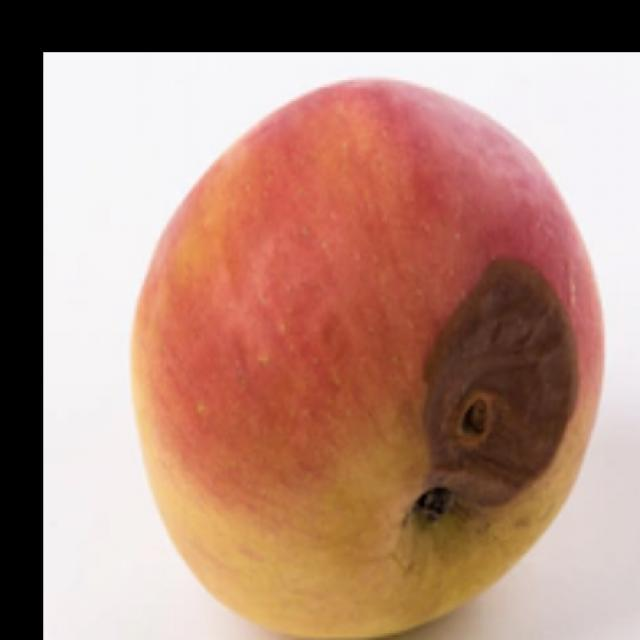Rotten: (110, 76, 595, 640)
